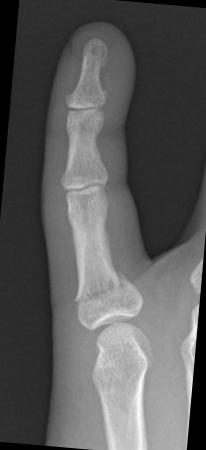fracture: (70, 272, 128, 309)
